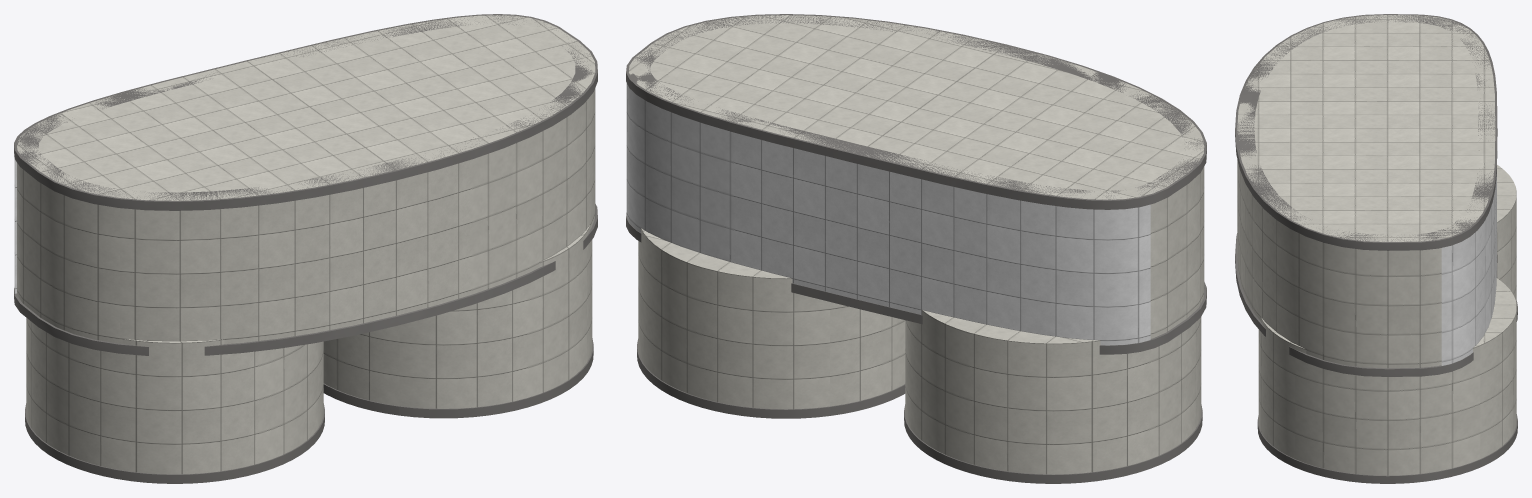
Rendered from aero01_mk2_adapter_mk2_bi_s.glb.
3 renders of one model, left to right at view 1: azimuth 30°, elevation 25°; view 2: azimuth 150°, elevation 25°; view 3: azimuth 270°, elevation 25°, orthographic. The views are drawn at different scales.
Parts seen in each view (by area): view 1: fuselage, pods, end_frames, pod_rings; view 2: fuselage, pods, belly_tiles, end_frames, pod_rings; view 3: fuselage, pods, end_frames, belly_tiles, pod_rings.
Boxes of the visible parts, x1=… form: fuselage: x1=17, y1=15, x2=595, y2=344; pods: x1=26, y1=225, x2=592, y2=474; end_frames: x1=14, y1=14, x2=597, y2=355; pod_rings: x1=25, y1=338, x2=593, y2=483; fuselage: x1=629, y1=15, x2=1204, y2=338; pods: x1=638, y1=228, x2=1201, y2=474; belly_tiles: x1=626, y1=83, x2=1150, y2=345; end_frames: x1=626, y1=14, x2=1206, y2=354; pod_rings: x1=637, y1=339, x2=1202, y2=483; fuselage: x1=1237, y1=15, x2=1495, y2=368; pods: x1=1258, y1=165, x2=1516, y2=475; end_frames: x1=1235, y1=14, x2=1497, y2=376; belly_tiles: x1=1441, y1=174, x2=1496, y2=365; pod_rings: x1=1257, y1=301, x2=1517, y2=483.
Size of the model in its own units: 2.52 by 1.25 by 1.31.
Materials: 3 (3 with a texture image).
